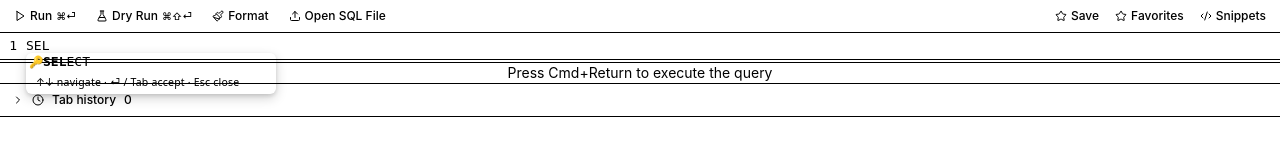
Scenario: QueryTab — autocomplete popup on execute (#2509) › closes the autocomplete popup when the toolbar Run button executes
The image size is (1280, 160).
Expected: the number of elements with class "cm-tooltip-autocomplete" is 1, [26,53,276,94]
Click the button with aria-label "Run query" at {"x": 45, "y": 16}, box [8,4,82,28]
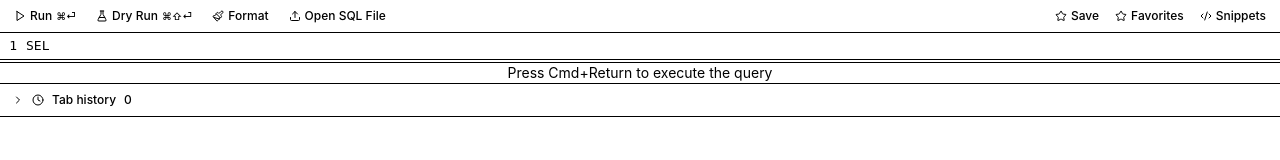
Expected: no elements with class "cm-tooltip-autocomplete" are shown
